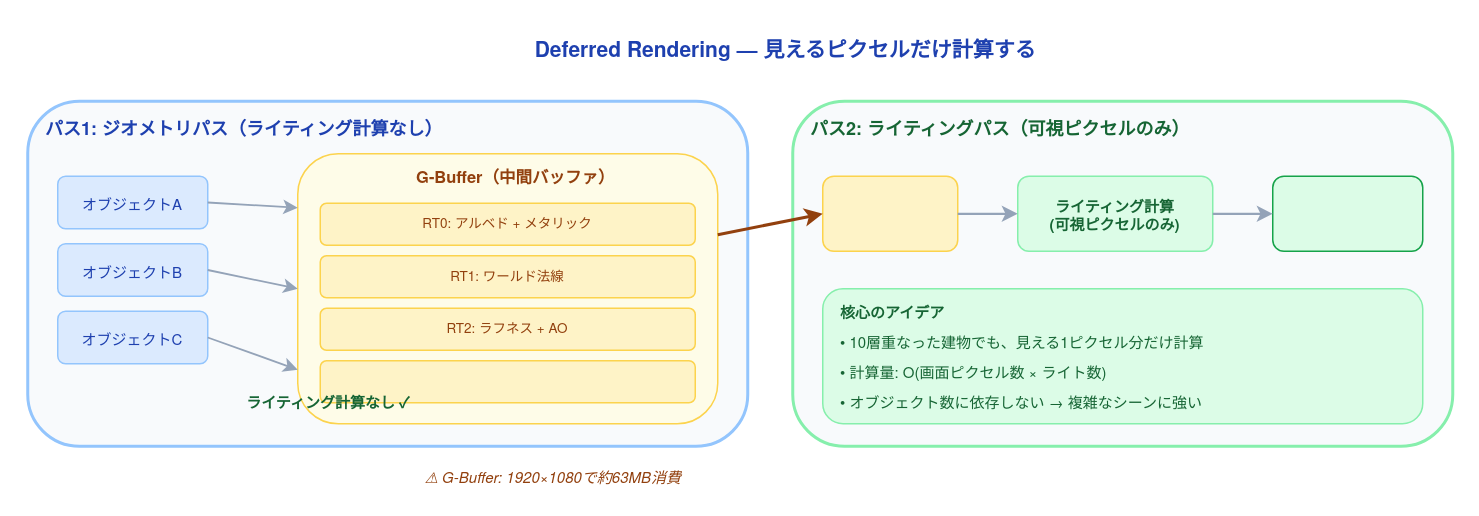
This 1479x516 diagram has some shape labels left out. The shapes that lost their labels are listed below. From the top down, each one's box as (x1, y1, x2, y2) in pixels, then its label:
(821, 175, 958, 251): G-Buffer 読み取り
(1271, 175, 1423, 251): 最終画像
(319, 359, 695, 403): Depth: 深度値
